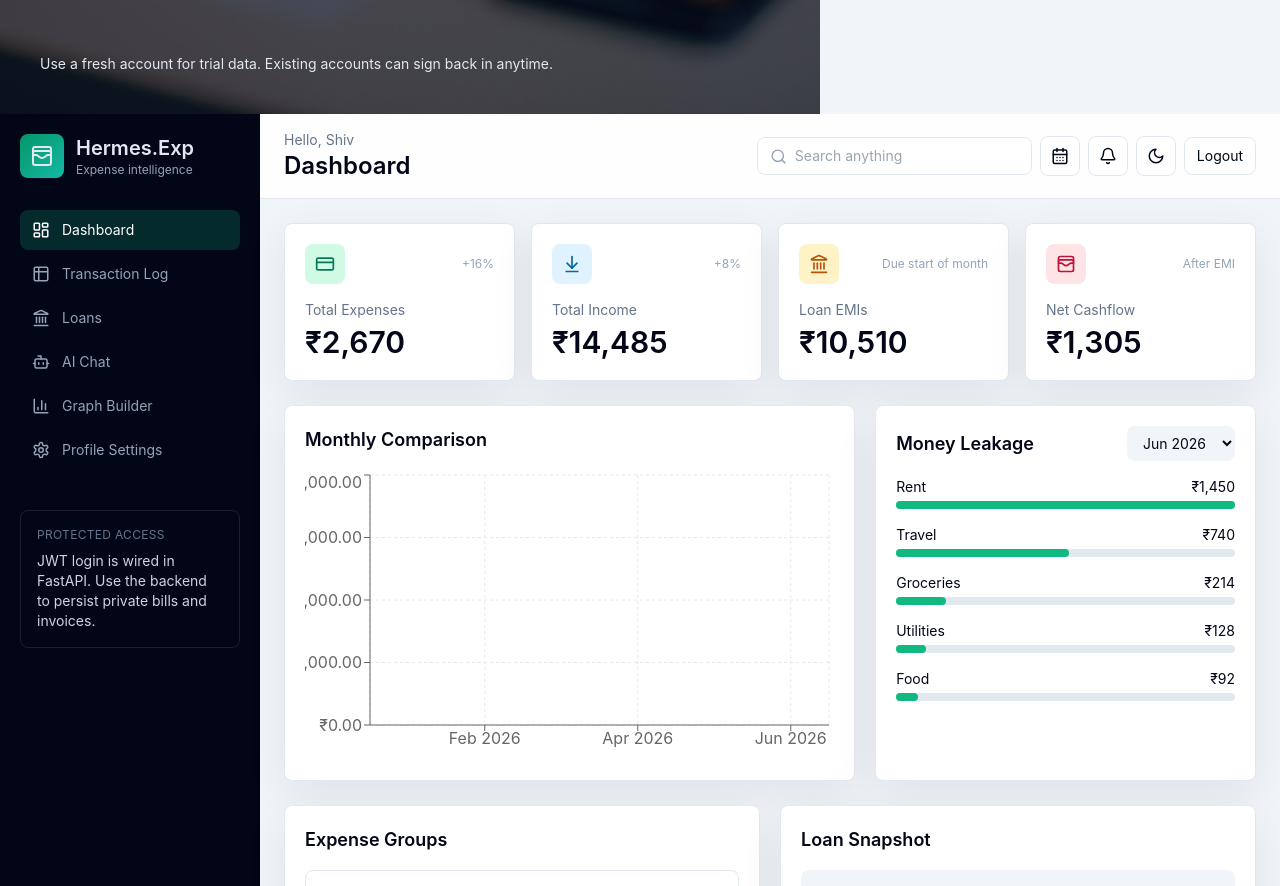
it: Transaction Log › keeps semantic colors on the monthly comparison graph across themes
(page scrolled)
Click the button "Profile Settings". click: (130, 450)
box: [20,430,240,470]
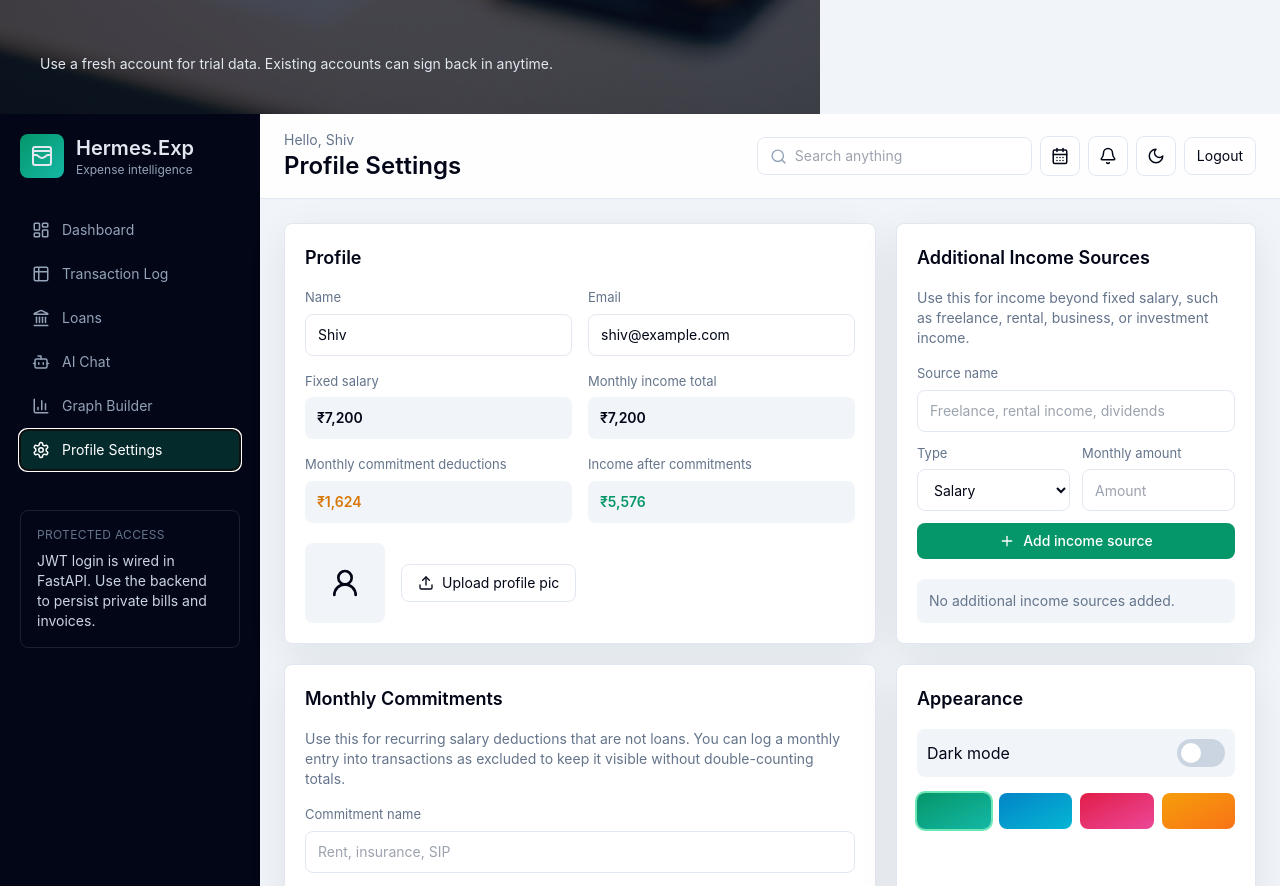
Click the button named "blue theme". click: (1035, 811)
box: [998,793,1072,829]
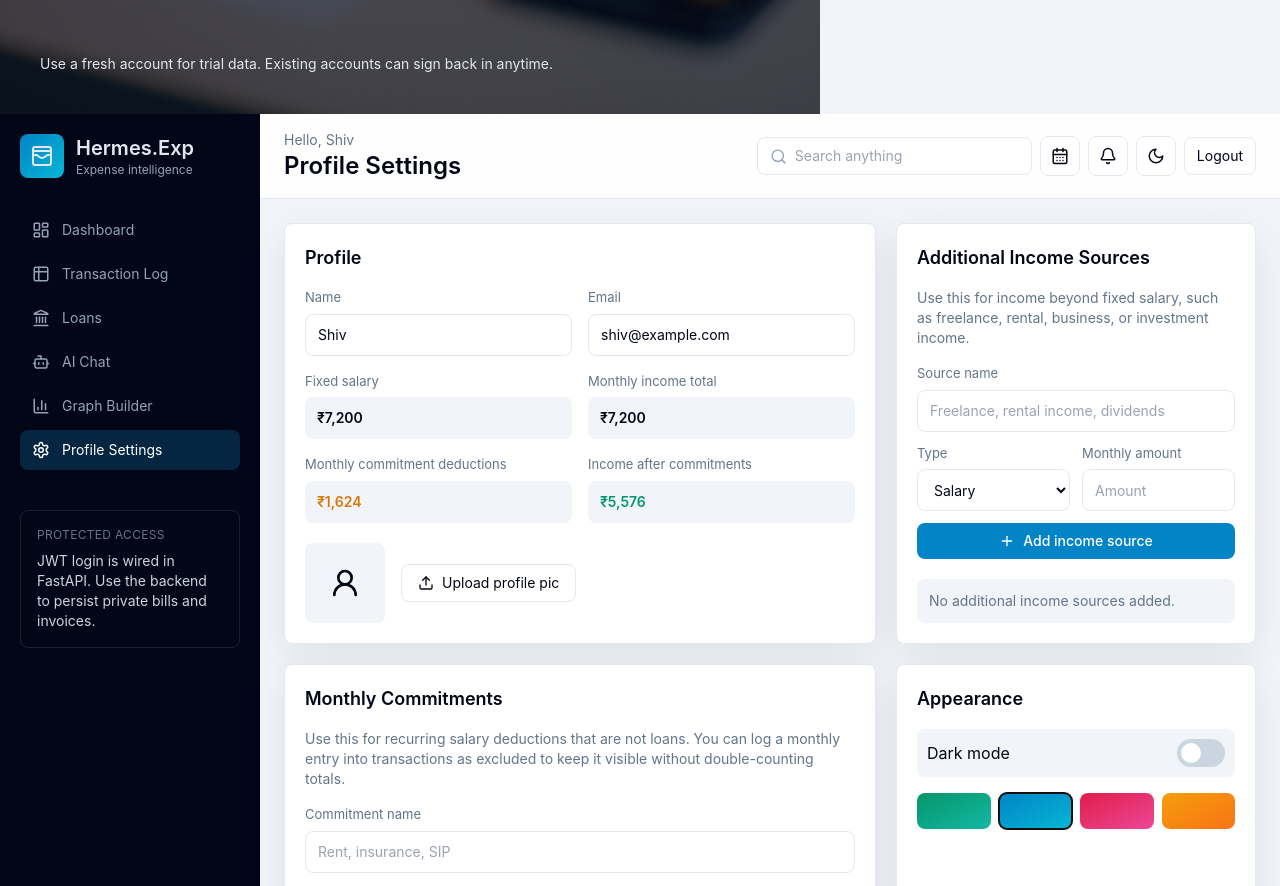
Click the button "Dashboard". click: (130, 230)
box: [20,210,240,250]
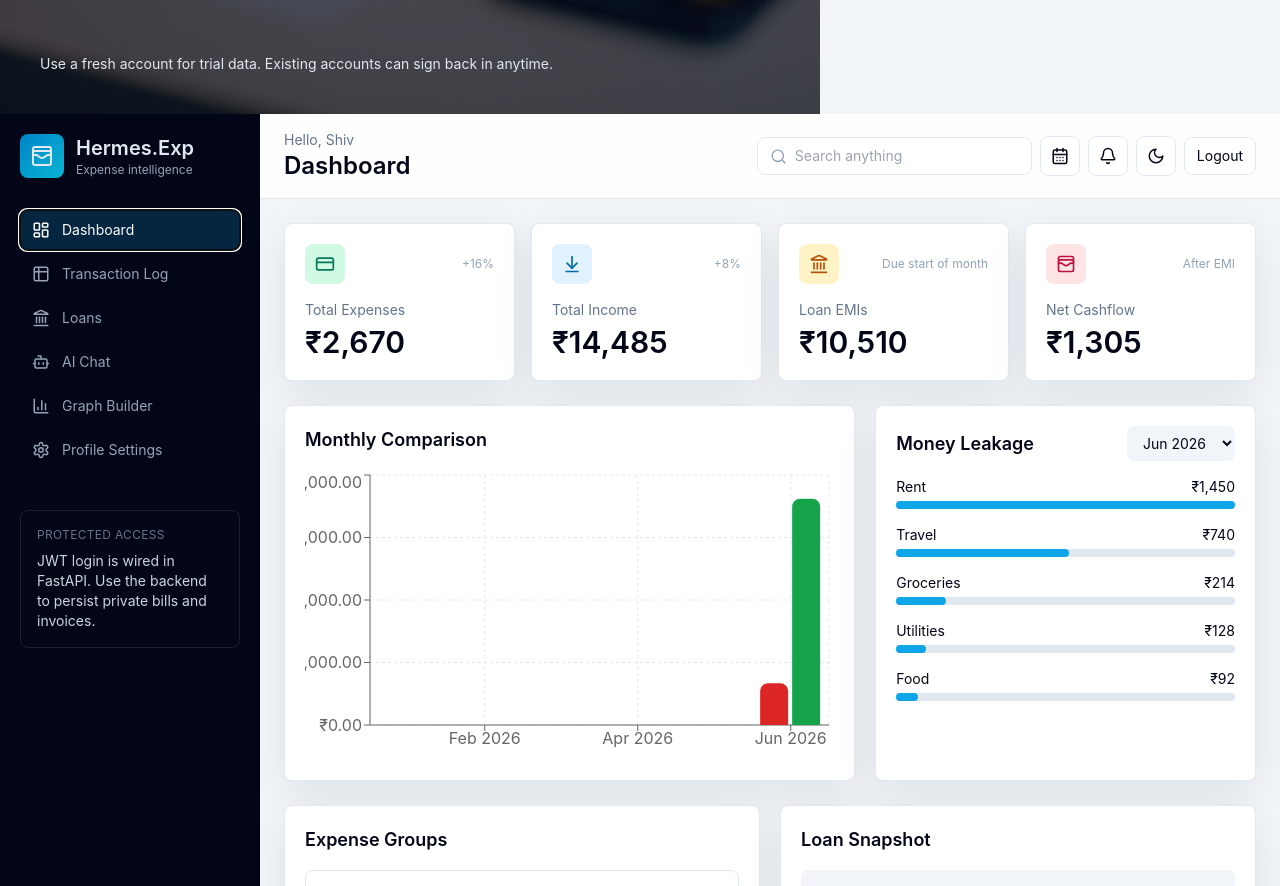
Now the heading "Monthly Comparison" is shown, box [305,426,487,454]
